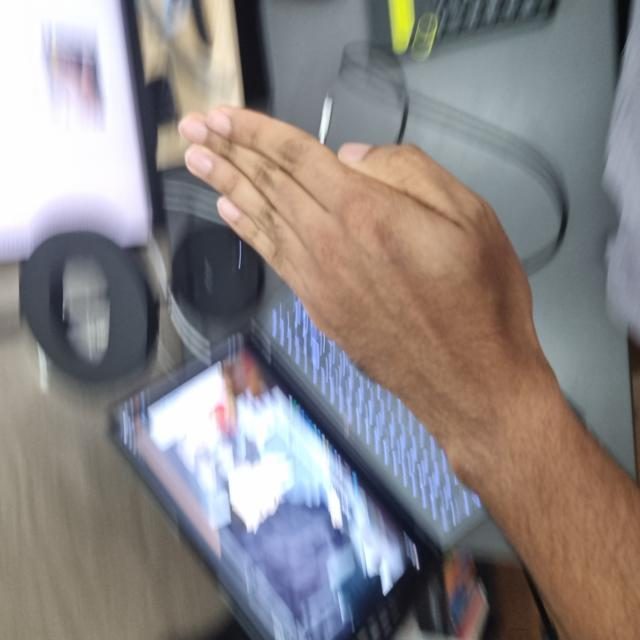Paper: (216, 184, 533, 535)
